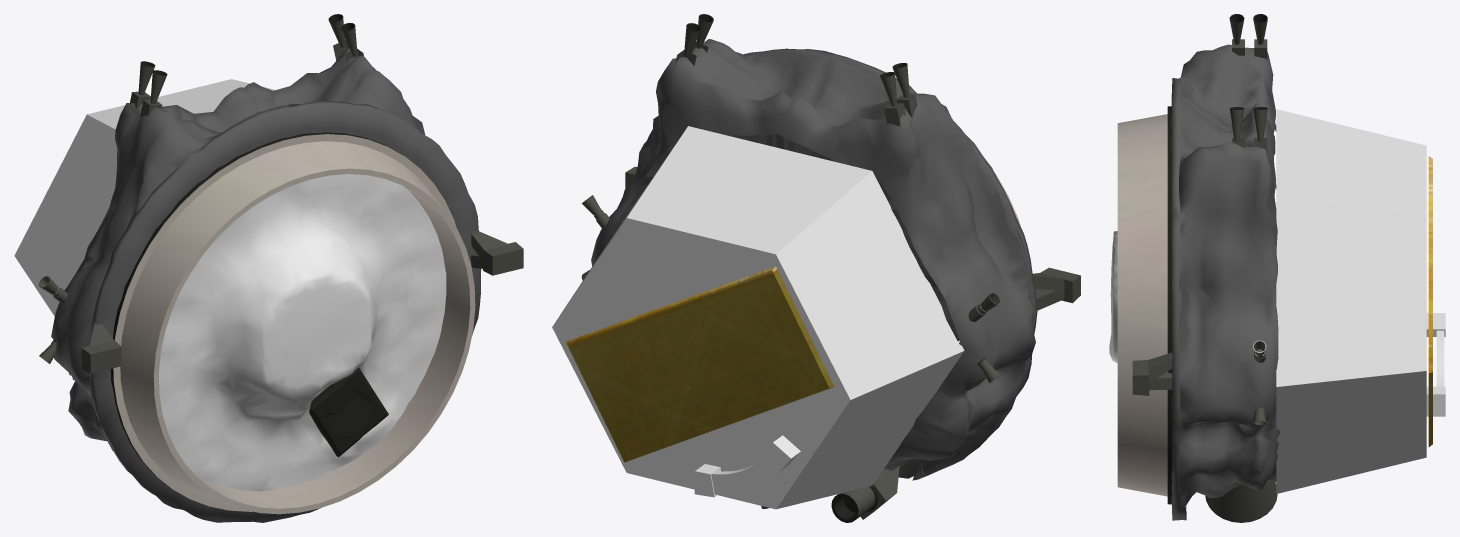
Rendered from deep-impact-impactor.glb.
The picture shows the model from 3 angles, left to right: view 1: azimuth 30°, elevation 25°; view 2: azimuth 150°, elevation 25°; view 3: azimuth 270°, elevation 25°; orthographic projection. The views are drawn at different scales.
Visible parts, largest first — view 1: foil_silver_I, tex_01_I, black_krinkle_I, aluminum_I; view 2: aluminum_I, black_krinkle_I, tex_01_I; view 3: aluminum_I, black_krinkle_I, tex_01_I, foil_silver_I.
Part boxes in pixels (bbox=[...]): foil_silver_I: bbox=[159, 174, 446, 491]; tex_01_I: bbox=[39, 14, 523, 514]; black_krinkle_I: bbox=[51, 48, 481, 522]; aluminum_I: bbox=[14, 79, 275, 316]; aluminum_I: bbox=[552, 126, 964, 509]; black_krinkle_I: bbox=[591, 39, 1037, 480]; tex_01_I: bbox=[566, 14, 1080, 522]; aluminum_I: bbox=[1276, 109, 1445, 493]; black_krinkle_I: bbox=[1171, 44, 1280, 520]; tex_01_I: bbox=[1117, 14, 1432, 522]; foil_silver_I: bbox=[1109, 231, 1117, 363].
Size of the model in its own units: 1.25 by 1.25 by 0.8549.
4 materials, 1 textured.
